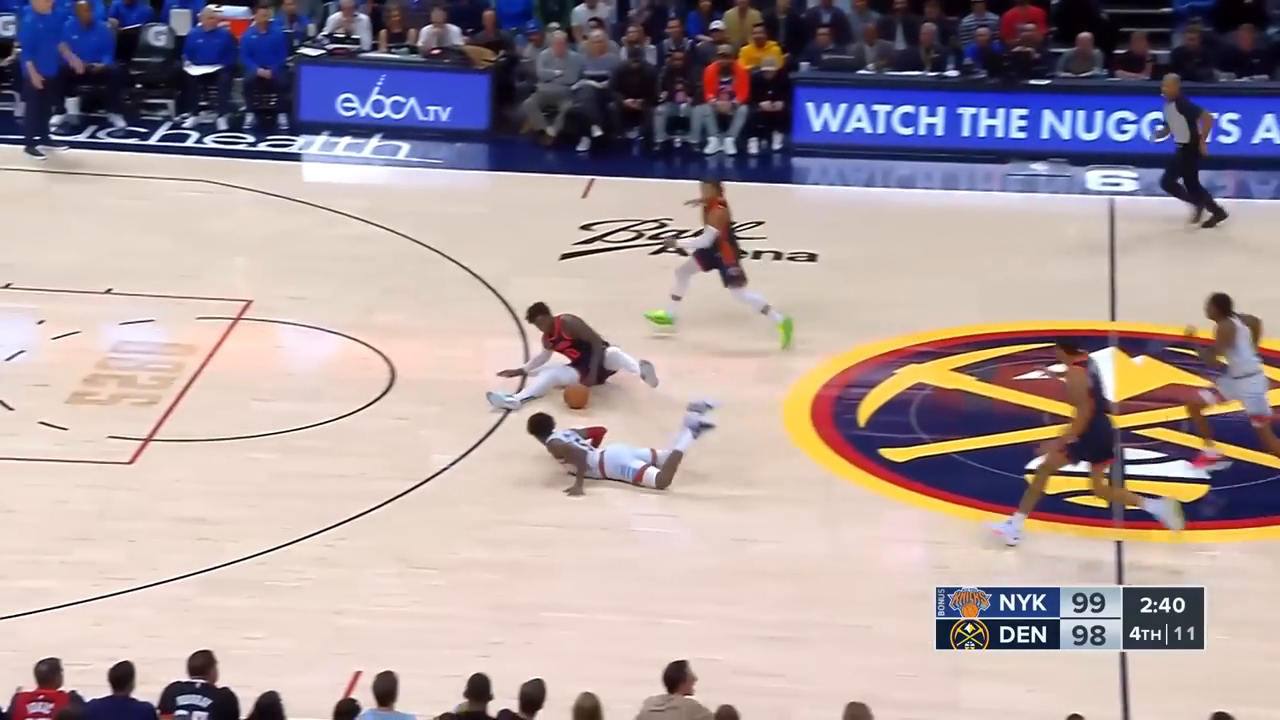ball: (558, 380, 592, 412)
